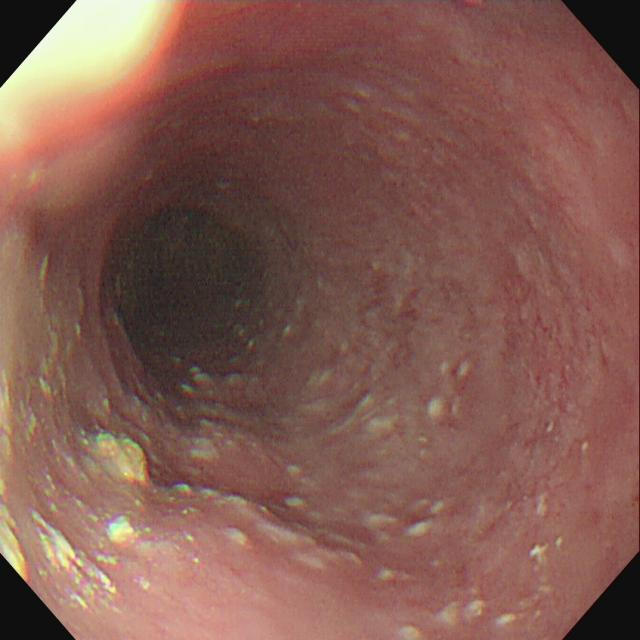E: (117, 199, 283, 369)
J: (2, 253, 152, 615), (174, 355, 224, 470)
U: (21, 6, 131, 106)
